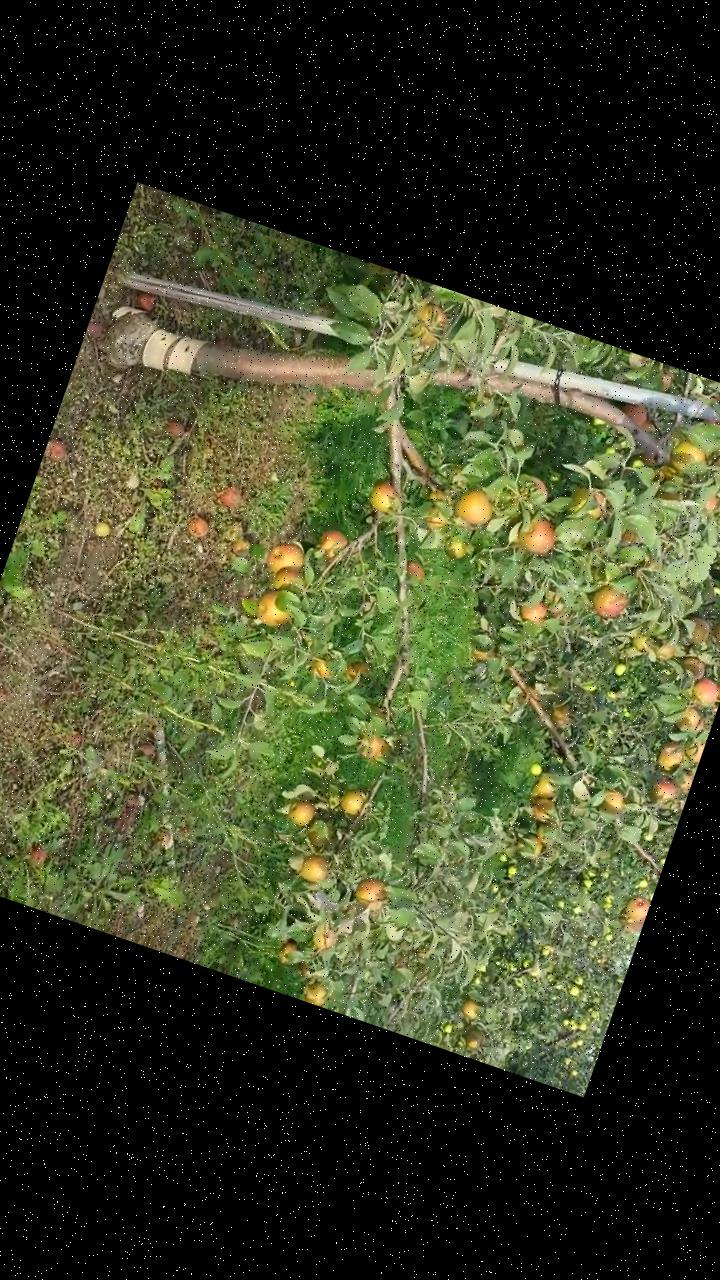Apple: (447, 484, 500, 532), (404, 301, 452, 350), (515, 514, 560, 559), (566, 482, 612, 524), (588, 580, 632, 622), (666, 438, 710, 476), (265, 538, 306, 576), (351, 875, 390, 913), (255, 592, 294, 630), (363, 478, 401, 516), (672, 706, 710, 740), (298, 851, 332, 886), (680, 614, 713, 650), (655, 740, 687, 776), (685, 676, 719, 709), (524, 792, 558, 825), (317, 530, 349, 564), (598, 787, 630, 819), (356, 733, 389, 764), (546, 698, 576, 732), (440, 535, 471, 566), (340, 657, 371, 688), (285, 800, 316, 830), (622, 895, 650, 927), (518, 598, 550, 626), (338, 786, 366, 818), (678, 654, 708, 682), (532, 816, 560, 846), (532, 773, 560, 803), (617, 400, 648, 427), (271, 568, 300, 596), (648, 779, 678, 806), (302, 981, 332, 1008), (300, 826, 330, 851), (310, 926, 338, 952), (456, 997, 482, 1023), (401, 558, 427, 584), (423, 507, 450, 532), (680, 736, 704, 764), (522, 476, 550, 500), (672, 768, 694, 796), (310, 656, 334, 680), (525, 835, 545, 863), (278, 940, 300, 964), (626, 633, 651, 654), (699, 490, 719, 516), (654, 640, 677, 662), (656, 370, 674, 398), (545, 596, 566, 620), (705, 618, 719, 648), (620, 530, 640, 547), (428, 488, 446, 504), (463, 1034, 478, 1050), (640, 417, 656, 432), (712, 671, 719, 703)
